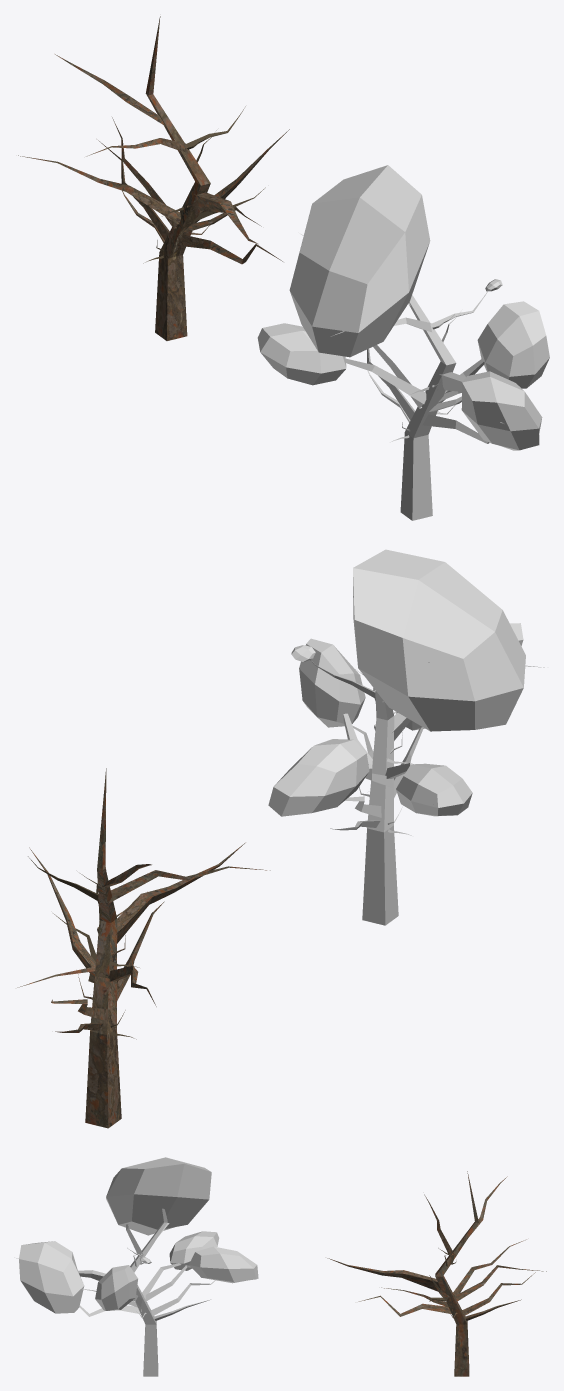
File: ForestTrees.fbx
3 renders of one model, top to bottom at view 1: azimuth 30°, elevation 25°; view 2: azimuth 150°, elevation 25°; view 3: azimuth 270°, elevation 25°, orthographic. The views are drawn at different scales.
Parts seen in each view (by area): view 1: Cube.003, Cube.043, Cube, Cube.005, Cube.001, Cube.004, Cube.047, Cube.057, Cube.015, Cube.055, Cube.048; view 2: Cube.003, Cube.043, Cube.001, Cube.002, Cube.005, Cube.004, Cube.057, Cube.058, Cube.046; view 3: Cube.003, Cube, Cube.002, Cube.043, Cube.005, Cube.001, Cube.004, Cube.057, Cube.055, Cube.047, Cube.045, Cube.044 (+1 smaller).
Part boxes in pixels (<box>): Cube.003: <box>289,165,430,357</box>; Cube.043: <box>145,16,210,340</box>; Cube: <box>461,371,542,450</box>; Cube.005: <box>477,301,549,388</box>; Cube.001: <box>400,295,456,520</box>; Cube.004: <box>257,323,346,385</box>; Cube.047: <box>18,155,180,224</box>; Cube.057: <box>194,192,258,244</box>; Cube.015: <box>345,358,426,403</box>; Cube.055: <box>177,234,282,264</box>; Cube.048: <box>55,54,164,125</box>; Cube.003: <box>353,549,525,731</box>; Cube.043: <box>85,768,121,1128</box>; Cube.001: <box>362,690,398,925</box>; Cube.002: <box>268,739,369,816</box>; Cube.005: <box>299,638,365,727</box>; Cube.004: <box>396,763,472,816</box>; Cube.057: <box>114,842,245,943</box>; Cube.058: <box>105,866,270,904</box>; Cube.046: <box>29,847,95,972</box>; Cube.003: <box>106,1157,211,1235</box>; Cube: <box>19,1241,84,1313</box>; Cube.002: <box>189,1246,258,1283</box>; Cube.043: <box>435,1171,478,1376</box>; Cube.005: <box>95,1265,137,1310</box>; Cube.001: <box>130,1208,167,1376</box>; Cube.004: <box>169,1231,219,1270</box>; Cube.057: <box>327,1258,440,1291</box>; Cube.055: <box>358,1295,451,1316</box>; Cube.047: <box>453,1239,526,1298</box>; Cube.045: <box>456,1265,546,1301</box>; Cube.044: <box>462,1272,535,1315</box>.
Size of the model in its own units: 1212 by 1747 by 4057.
